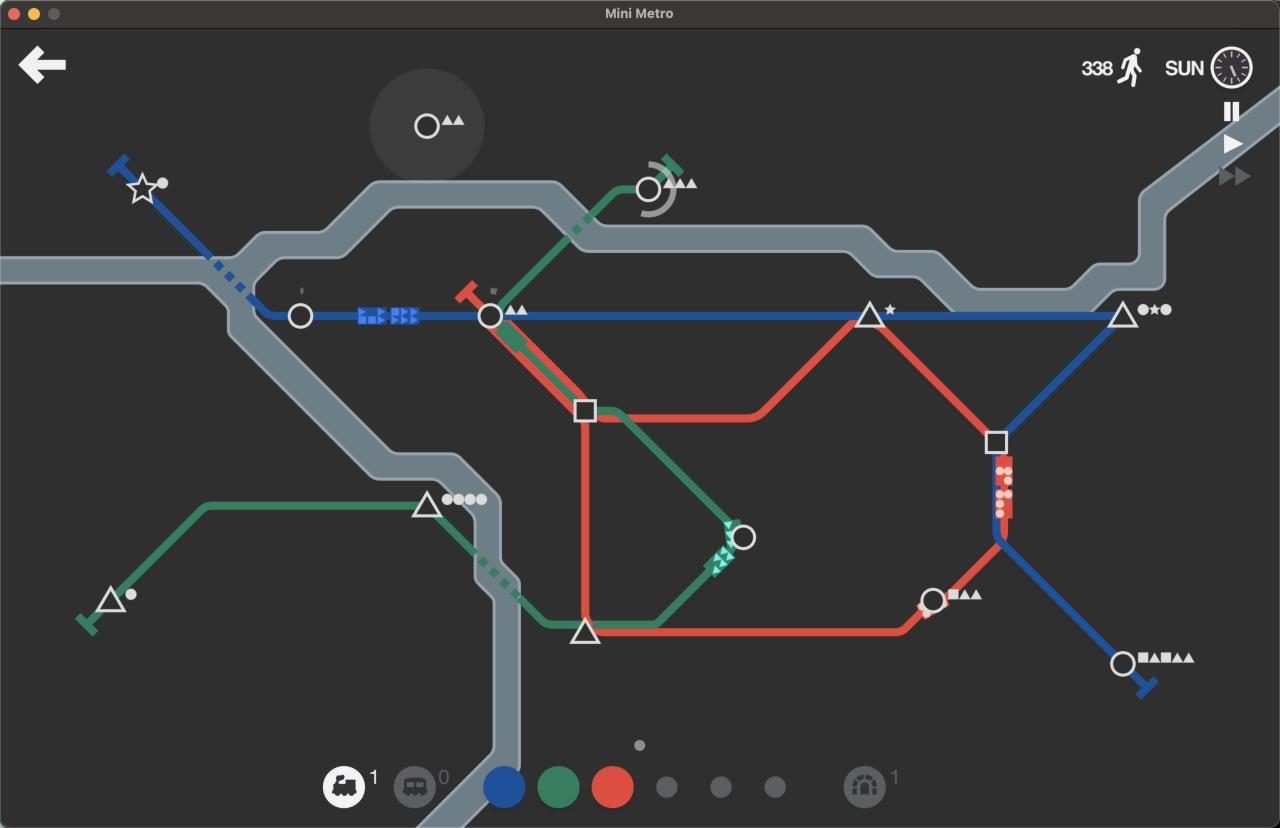CIRCLE: (918, 586, 947, 617), (635, 175, 663, 204), (729, 523, 757, 551), (1110, 650, 1138, 677), (413, 112, 440, 140), (477, 303, 504, 330), (288, 303, 314, 330)
SQUARE: (572, 398, 598, 424), (984, 429, 1009, 455)
STAR: (125, 171, 165, 204)
TRIANGLE: (94, 584, 128, 615), (569, 616, 601, 645), (411, 490, 444, 518), (855, 300, 885, 328), (1108, 300, 1138, 328)
